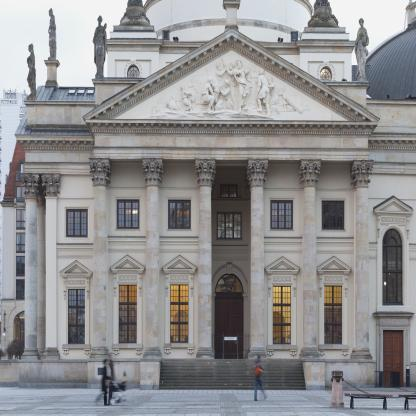Building Outline: (14, 0, 416, 390)
Cornice: (82, 27, 381, 125), (372, 195, 414, 217), (315, 255, 352, 275), (162, 254, 198, 274), (110, 254, 146, 274), (264, 256, 300, 275), (59, 259, 93, 278), (373, 311, 415, 319)
Deco: (115, 50, 348, 120), (300, 0, 350, 41), (110, 0, 158, 39), (92, 15, 107, 78), (26, 43, 36, 100), (48, 8, 57, 60)
Door: (215, 296, 244, 359), (383, 330, 403, 387)
Facade: (25, 134, 369, 390)
Floor: (46, 125, 365, 252)
Floor Slab: (28, 118, 415, 125), (46, 246, 365, 252), (364, 306, 416, 311)
Ground Floor: (46, 252, 365, 389), (364, 311, 416, 388)
Molding: (85, 122, 378, 138), (354, 18, 369, 81), (16, 140, 94, 148), (368, 140, 416, 153)
Pillar: (141, 158, 164, 359), (88, 158, 111, 359), (194, 158, 217, 359), (299, 158, 322, 359), (351, 160, 374, 359), (247, 158, 269, 359), (19, 173, 40, 360), (41, 173, 61, 359)
Sill: (318, 344, 349, 356), (267, 344, 298, 356), (164, 343, 195, 354), (112, 343, 143, 354), (62, 344, 91, 354)
Top Floor: (107, 40, 352, 125), (364, 162, 416, 311), (38, 86, 108, 125)
Window: (382, 228, 404, 305), (170, 284, 189, 343), (118, 285, 137, 344), (324, 286, 342, 345), (273, 286, 291, 344), (68, 289, 85, 344), (217, 211, 242, 239), (322, 200, 345, 230), (117, 199, 140, 229), (168, 199, 191, 229), (270, 200, 293, 229), (215, 273, 244, 296), (66, 209, 88, 237), (221, 184, 238, 198)
dont: (101, 352, 129, 406), (252, 355, 268, 401), (330, 369, 344, 407)
